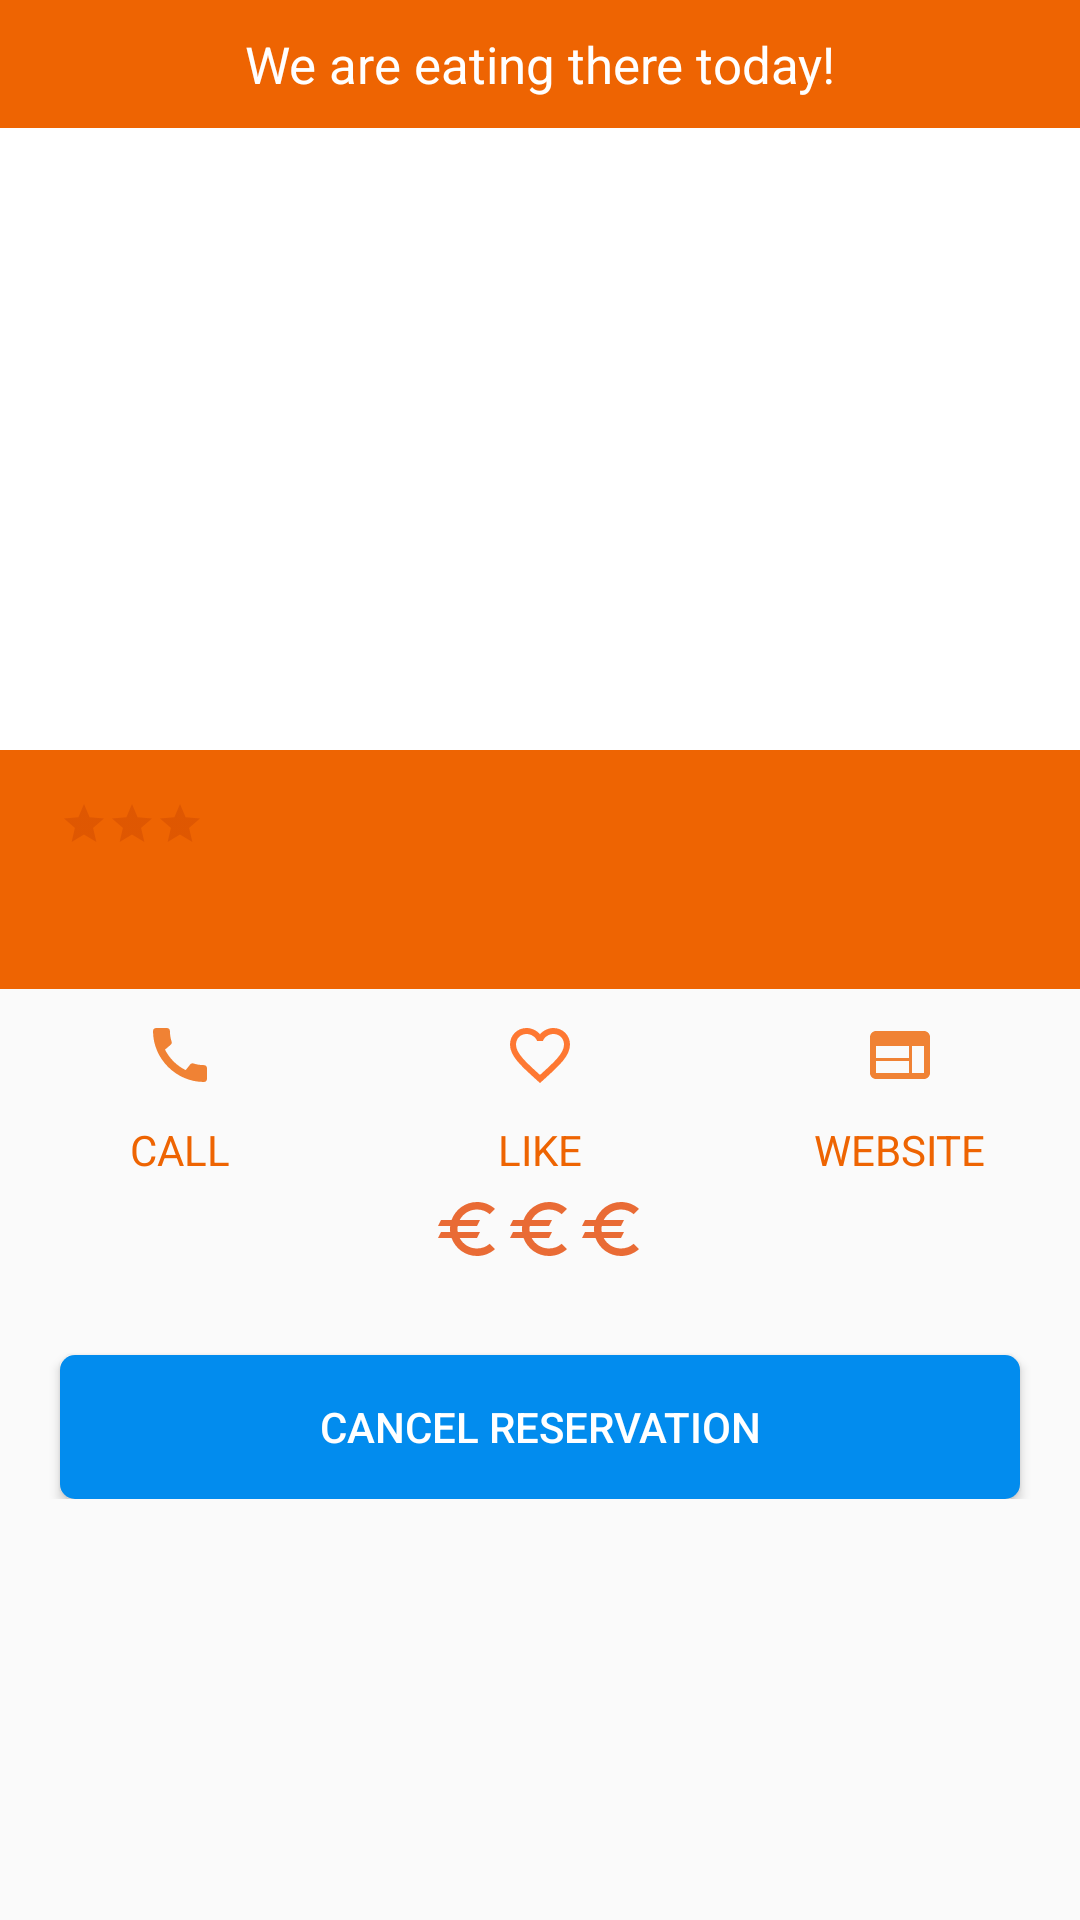

Screen size 1080x1920. Icon name, then its box in pixels as bbox=[x1, y1, x2, y2]:
favorite false: bbox=[510, 1028, 570, 1083]
phone: bbox=[153, 1028, 207, 1082]
pricy restaurant: bbox=[438, 1202, 495, 1256], bbox=[510, 1202, 567, 1256], bbox=[582, 1202, 639, 1256]
web: bbox=[870, 1031, 930, 1079]
